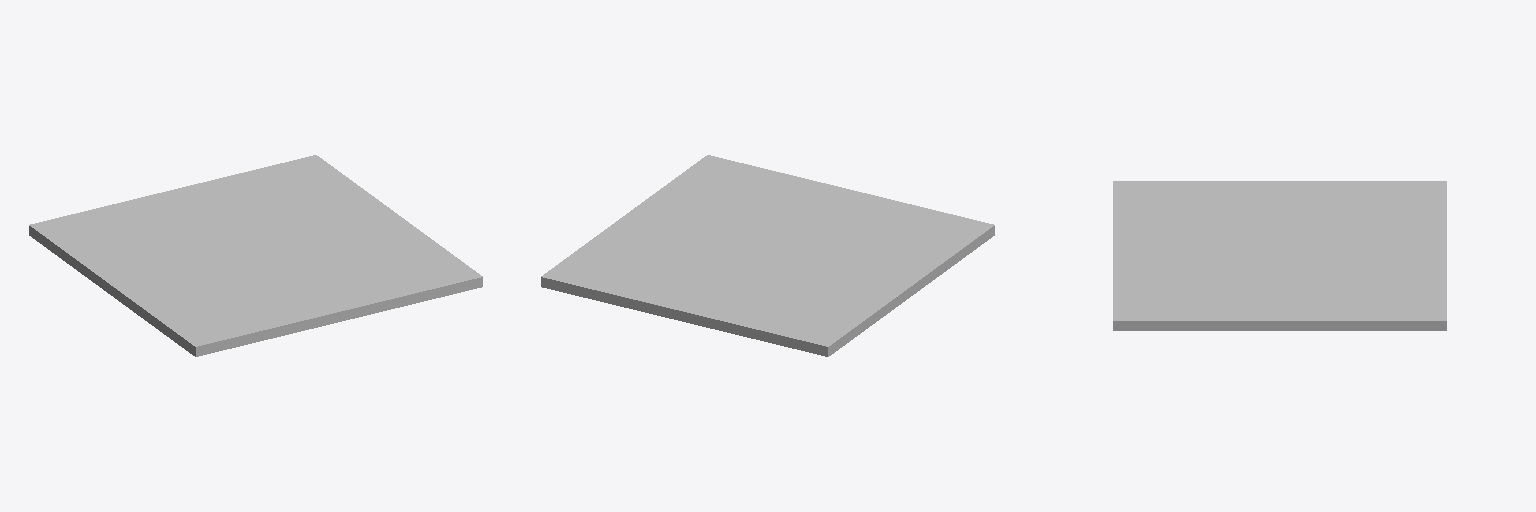
The model's file is floor.obj.
3 views of the same model, side by side, from view 1: azimuth 30°, elevation 25°; view 2: azimuth 150°, elevation 25°; view 3: azimuth 270°, elevation 25° (orthographic).
Parts seen in each view (by area): view 1: Cube; view 2: Cube; view 3: Cube.
Boxes of the visible parts, x1=… form: Cube: x1=29, y1=155, x2=482, y2=356; Cube: x1=541, y1=155, x2=994, y2=356; Cube: x1=1113, y1=181, x2=1446, y2=330.
Size of the model in its own units: 43.48 by 1.47 by 43.68.